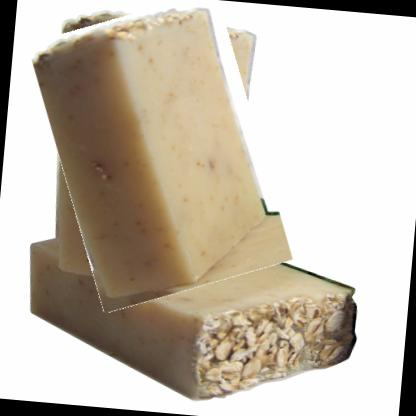soap: (27, 0, 293, 315)
